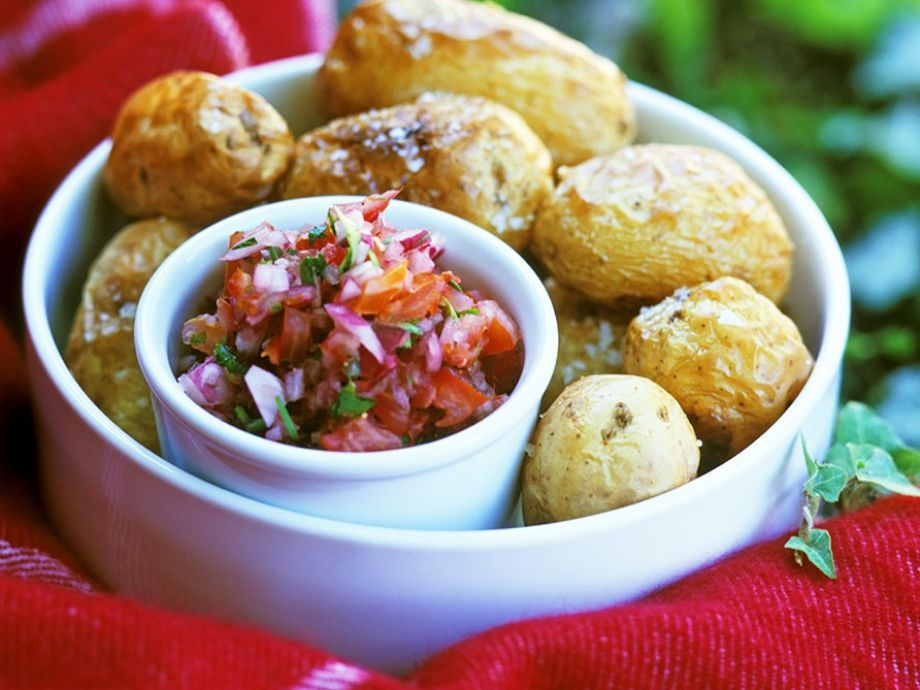boiled potatoes: (341, 1, 622, 146), (290, 107, 550, 235), (552, 152, 779, 297), (106, 68, 280, 202), (639, 282, 803, 421), (549, 379, 693, 500)
